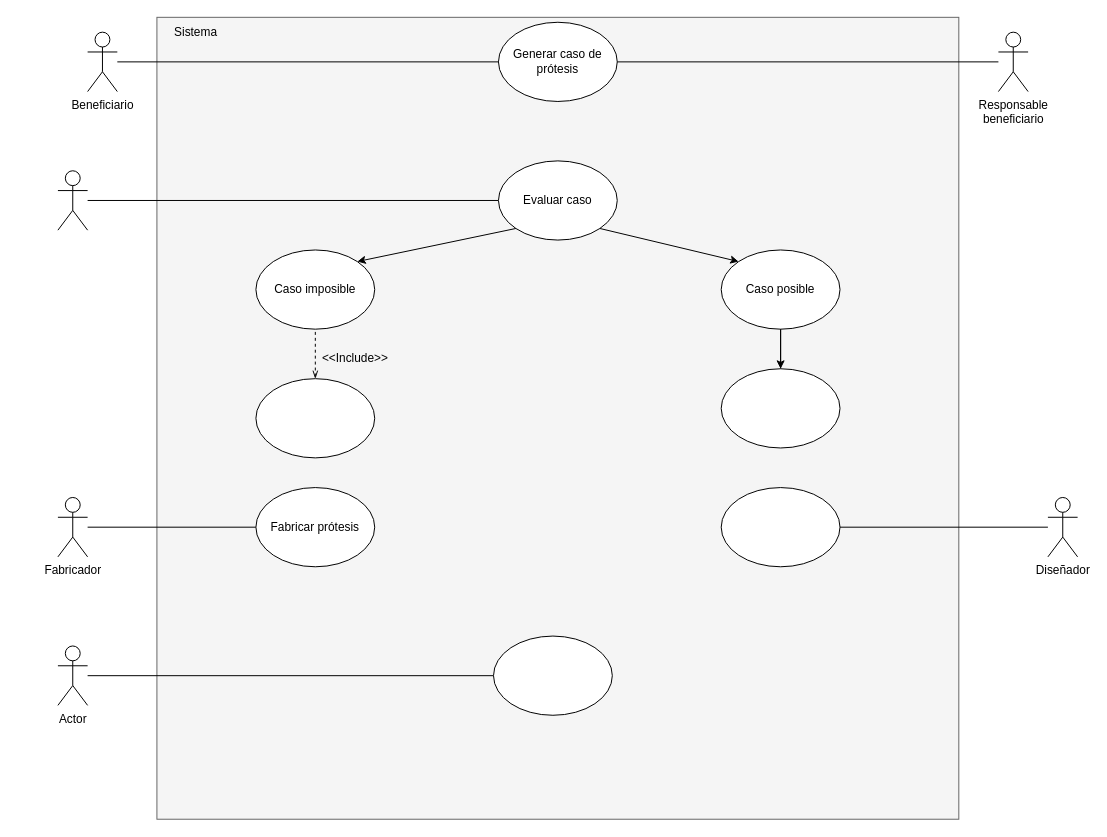
Some shapes in this 1107 by 837 pixel diagram are drawn without their labels. The centre of each missing label's shape, as x and y in pixels:
Diseñar prótesis: point (780, 527)
ejecutivo de atencion: point (72, 200)
Iniciar proceso de creación de prótesis: point (780, 408)
notificar imposibilidad: point (315, 418)
Realizar seguimiento: point (552, 675)
